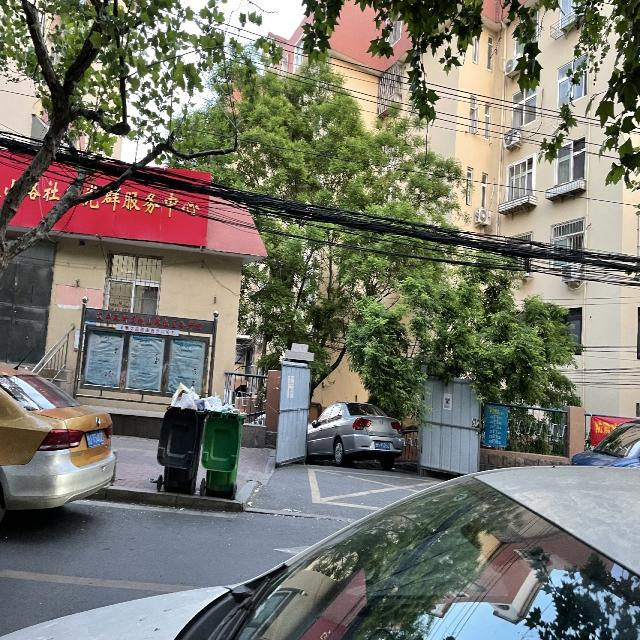overflow: (157, 382, 208, 492), (200, 391, 246, 492)
